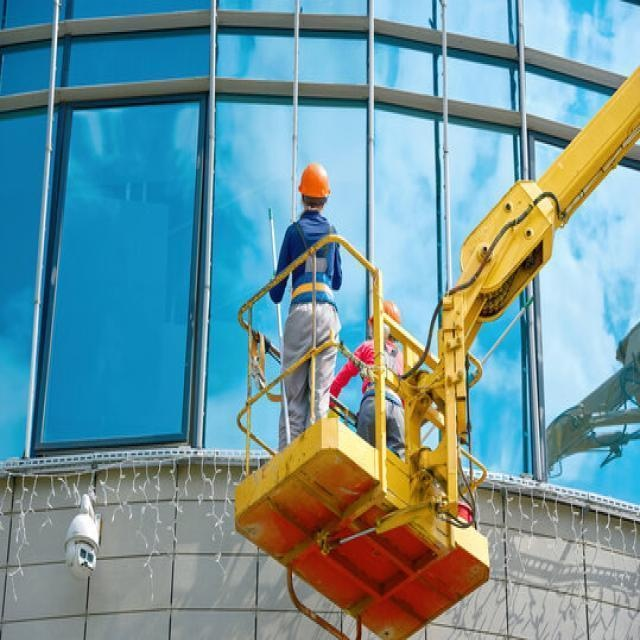Arnes_seguridad: (293, 222, 336, 311), (362, 339, 402, 408)
